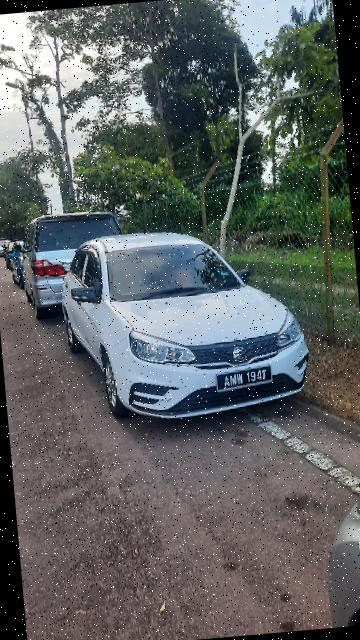License_Plate: (209, 366, 278, 396)
car: (55, 217, 316, 434)
